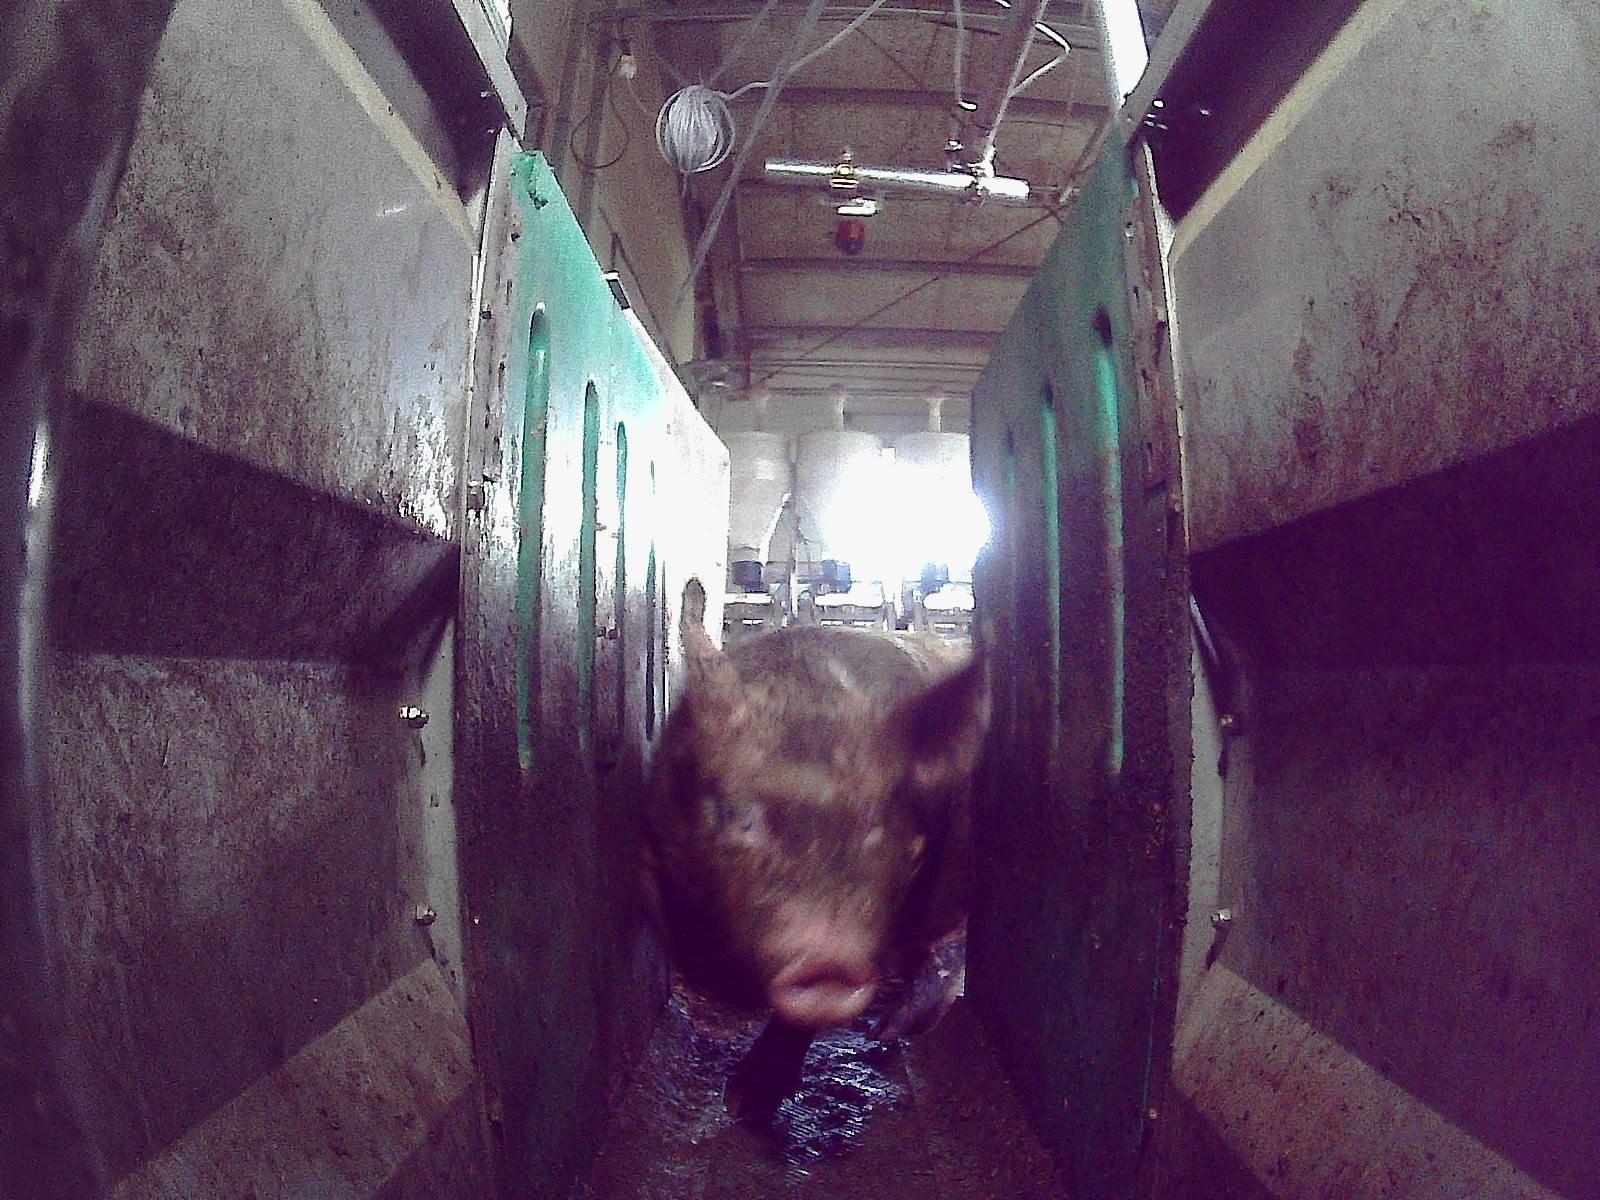Face: (690, 661, 934, 1024)
